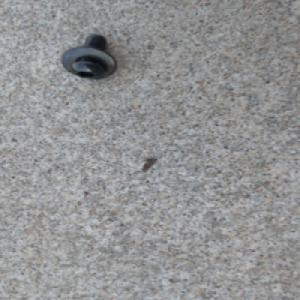BoltWasher: (58, 32, 119, 80)
